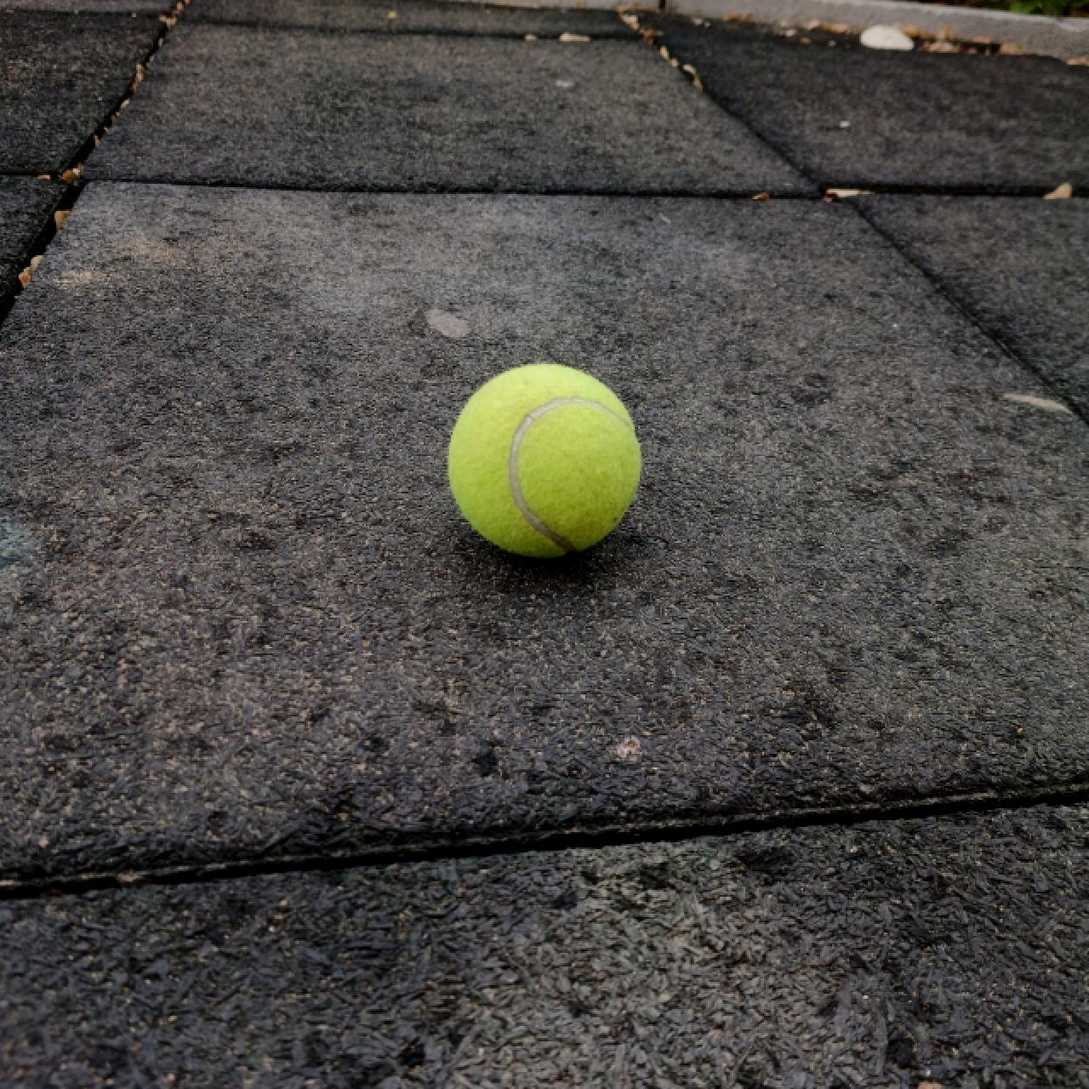tennis-ball: (446, 362, 643, 561)
